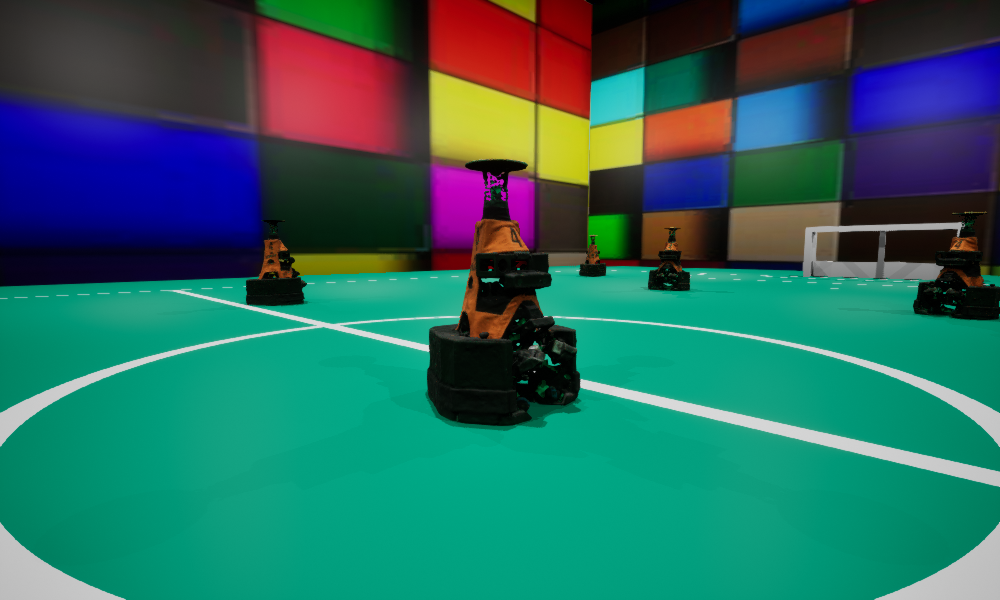0 orange robot TechUnited: (427, 159, 579, 425), (913, 212, 999, 318), (246, 220, 306, 305), (648, 227, 689, 289), (579, 235, 605, 276)
